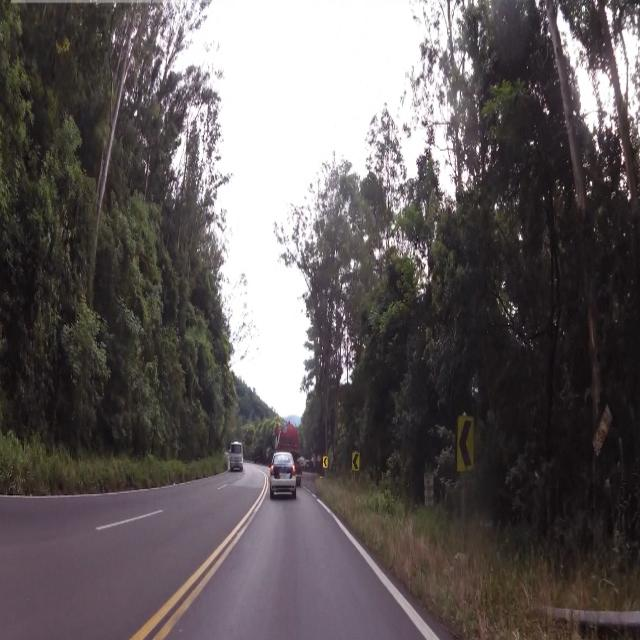Del: (457, 410, 475, 474)
